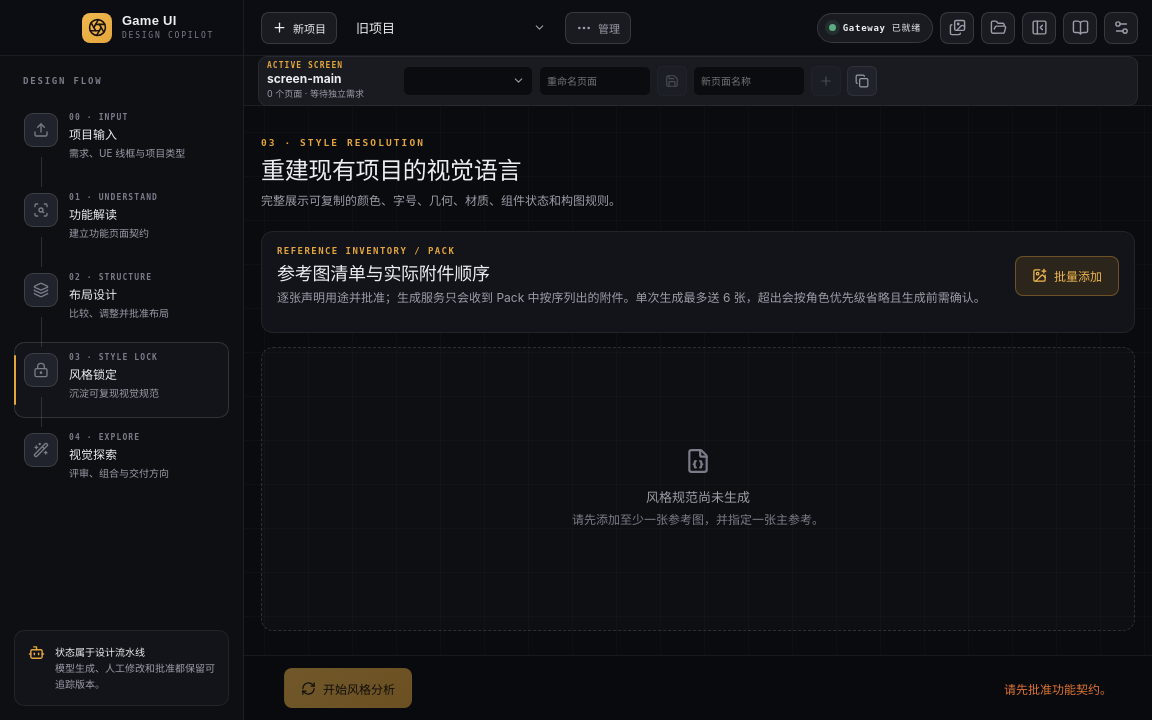
Test: App 创建项目身份豁免（AUD-04 newEntity） › 已打开其他项目时创建成功：新项目直接接管工作区，不被 Job Identity 校验拒绝
Expected: the text "旧项目" is shown, x1=356 y1=20 x2=395 y2=36
Click the button "新项目": click(299, 28) x1=261 y1=12 x2=337 y2=44
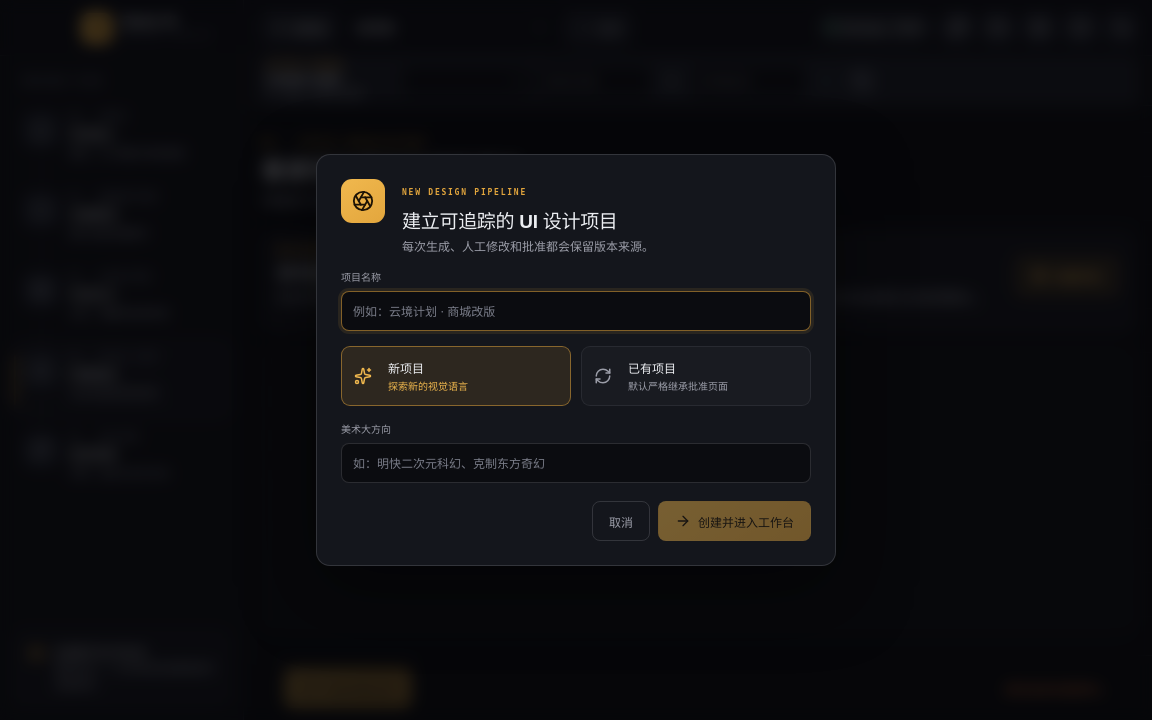
In the field with placeholder "例如：云境计划 · 商城改版": (576, 311) x1=341 y1=291 x2=811 y2=331, type "新建测试项目"
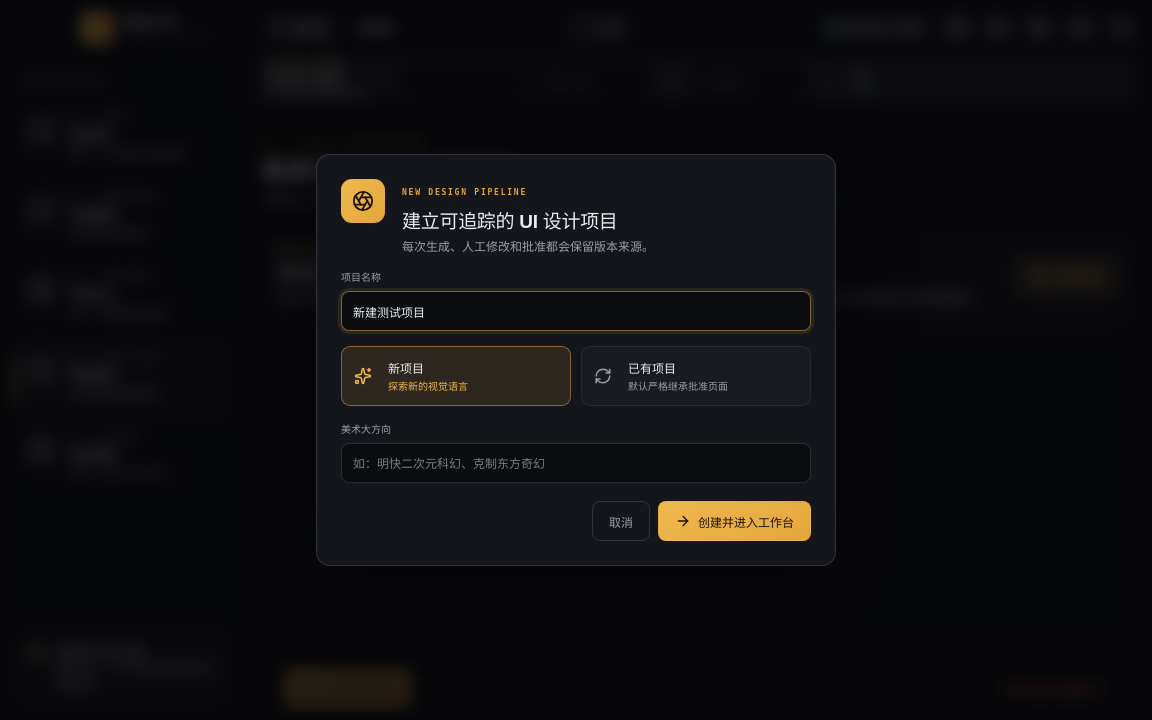
Click the button with test id "create-project": click(734, 521) x1=658 y1=501 x2=811 y2=541
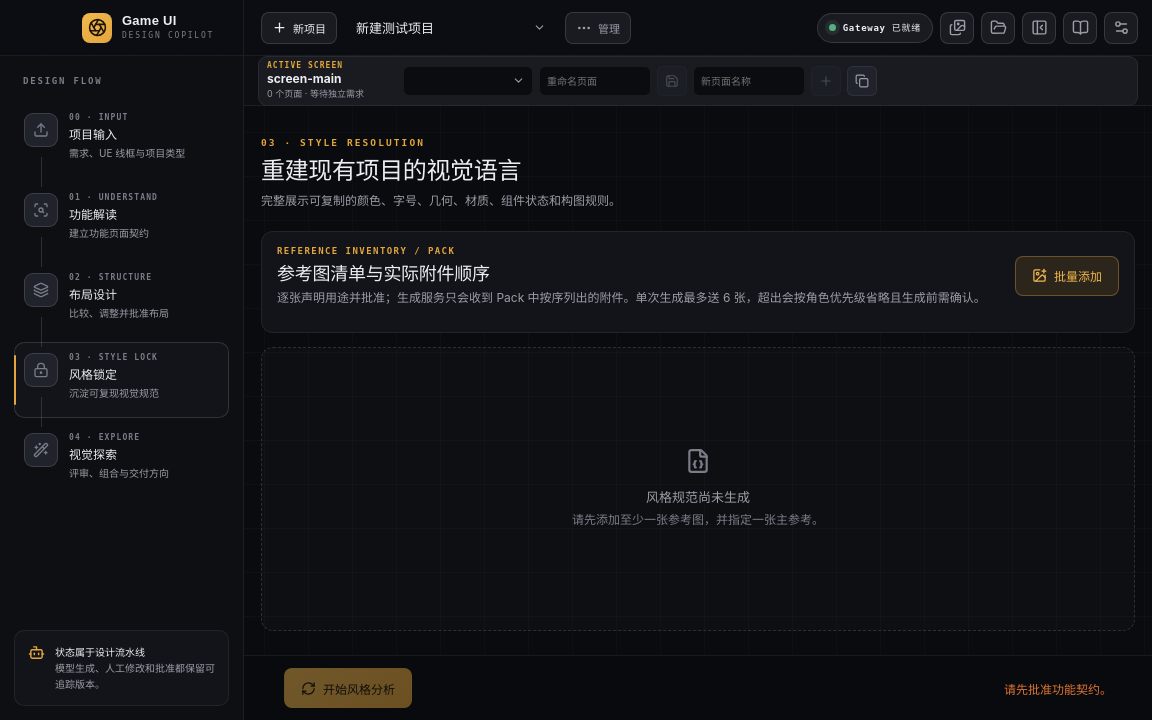
Expected: the text "新建测试项目" is shown, x1=356 y1=20 x2=434 y2=36
Expected: the dropdown "旧项目" is gone
